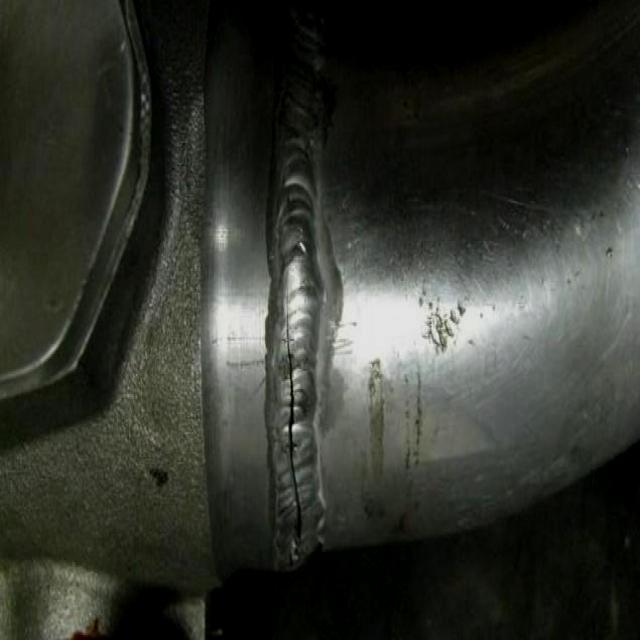defect: (285, 285, 304, 562)
